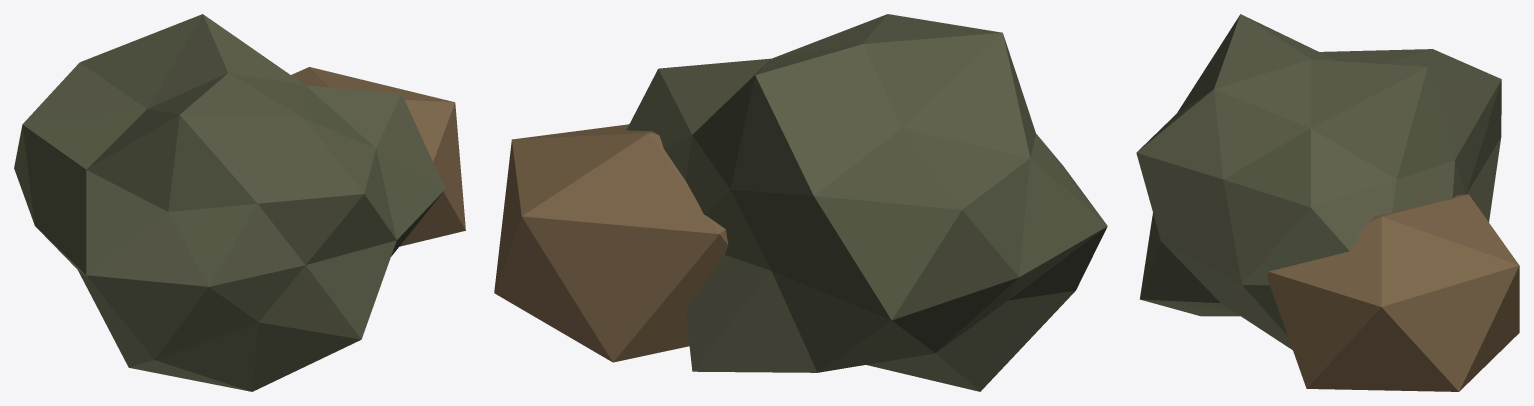
File: scrub.glb
3 views of the same model, side by side, from view 1: azimuth 30°, elevation 25°; view 2: azimuth 150°, elevation 25°; view 3: azimuth 270°, elevation 25° (orthographic). The views are drawn at different scales.
Visible parts, largest first — view 1: scrub; view 2: scrub; view 3: scrub.
Boxes of the visible parts, left/top/right/bottom form: scrub: left=14, top=14, right=465, bottom=391; scrub: left=494, top=14, right=1107, bottom=391; scrub: left=1136, top=14, right=1519, bottom=391.
Size of the model in its own units: 1.43 by 0.8758 by 1.09.
